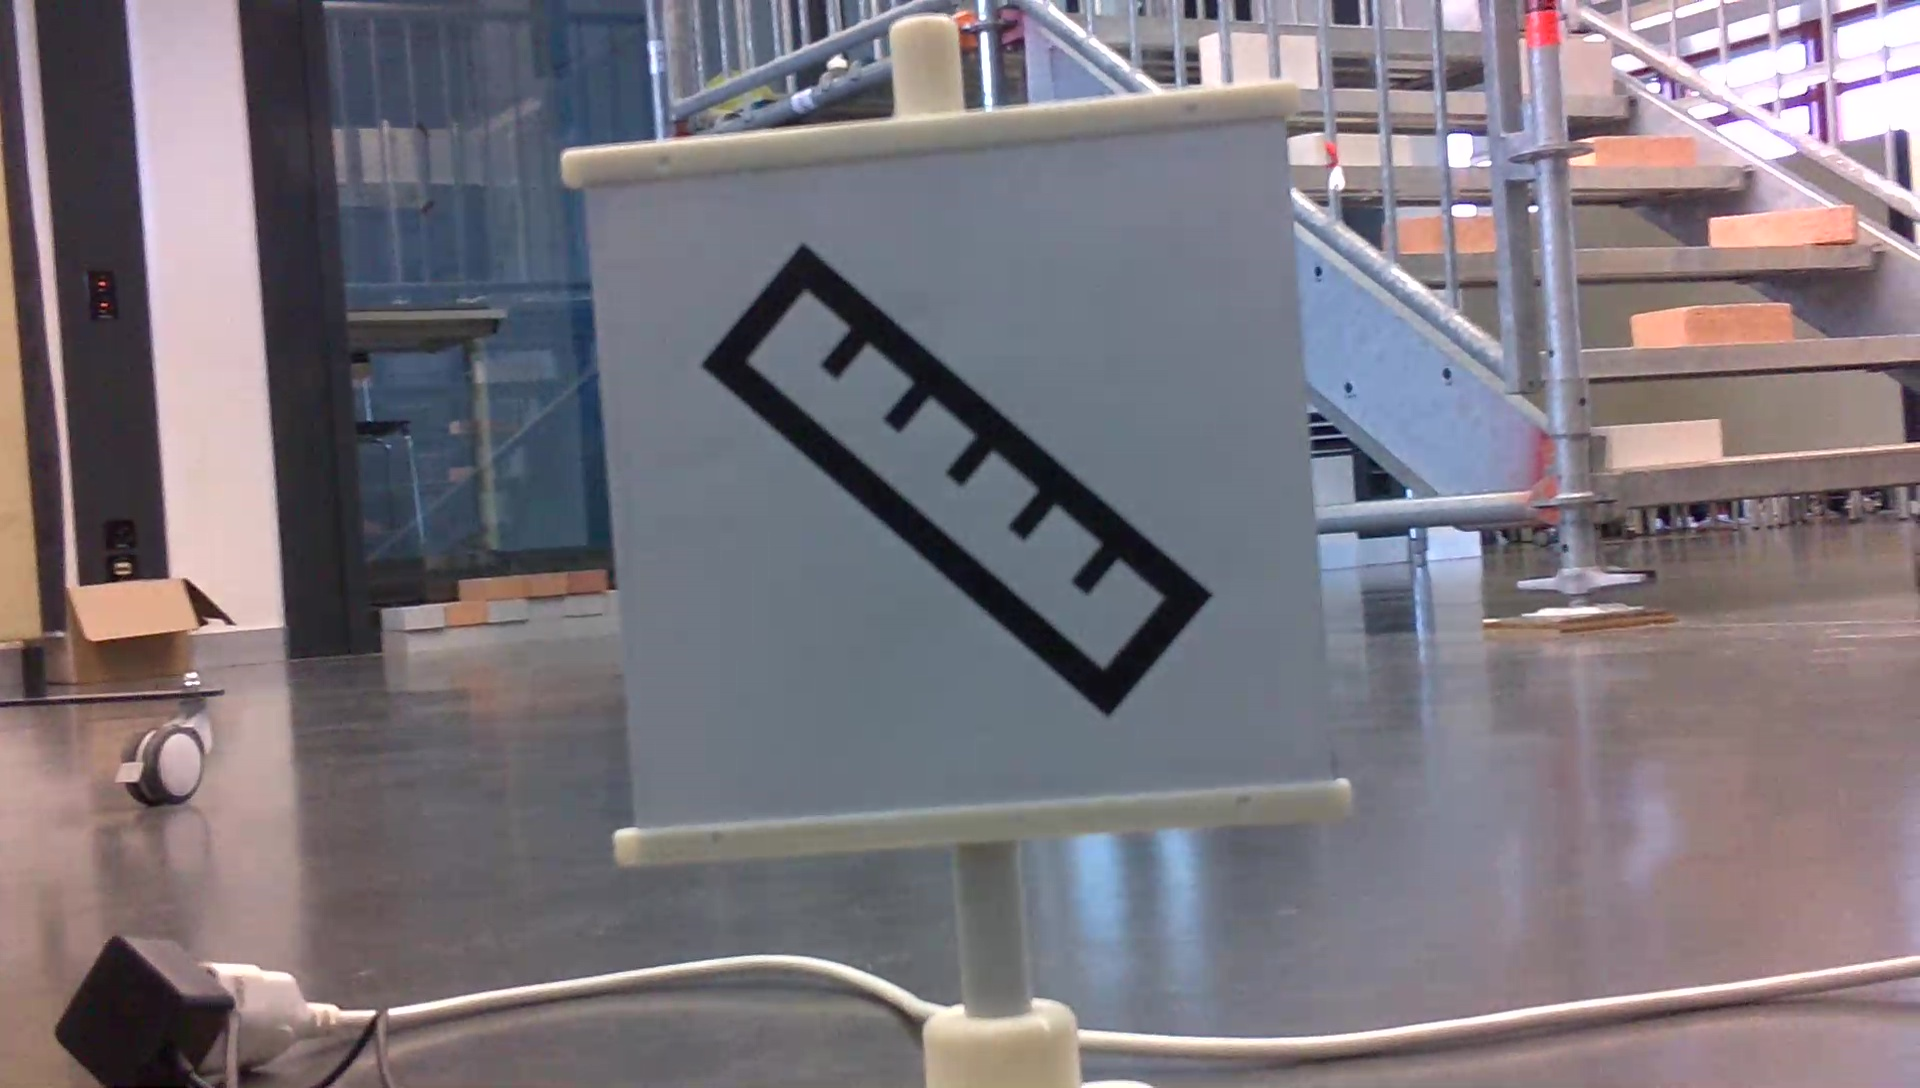brick: (1629, 294, 1791, 352), (1582, 414, 1730, 469), (1706, 199, 1855, 235), (1581, 127, 1691, 166)
edge: (1604, 437, 1920, 518), (1567, 243, 1875, 280), (1543, 342, 1920, 371)
ruler: (705, 236, 1211, 725)
